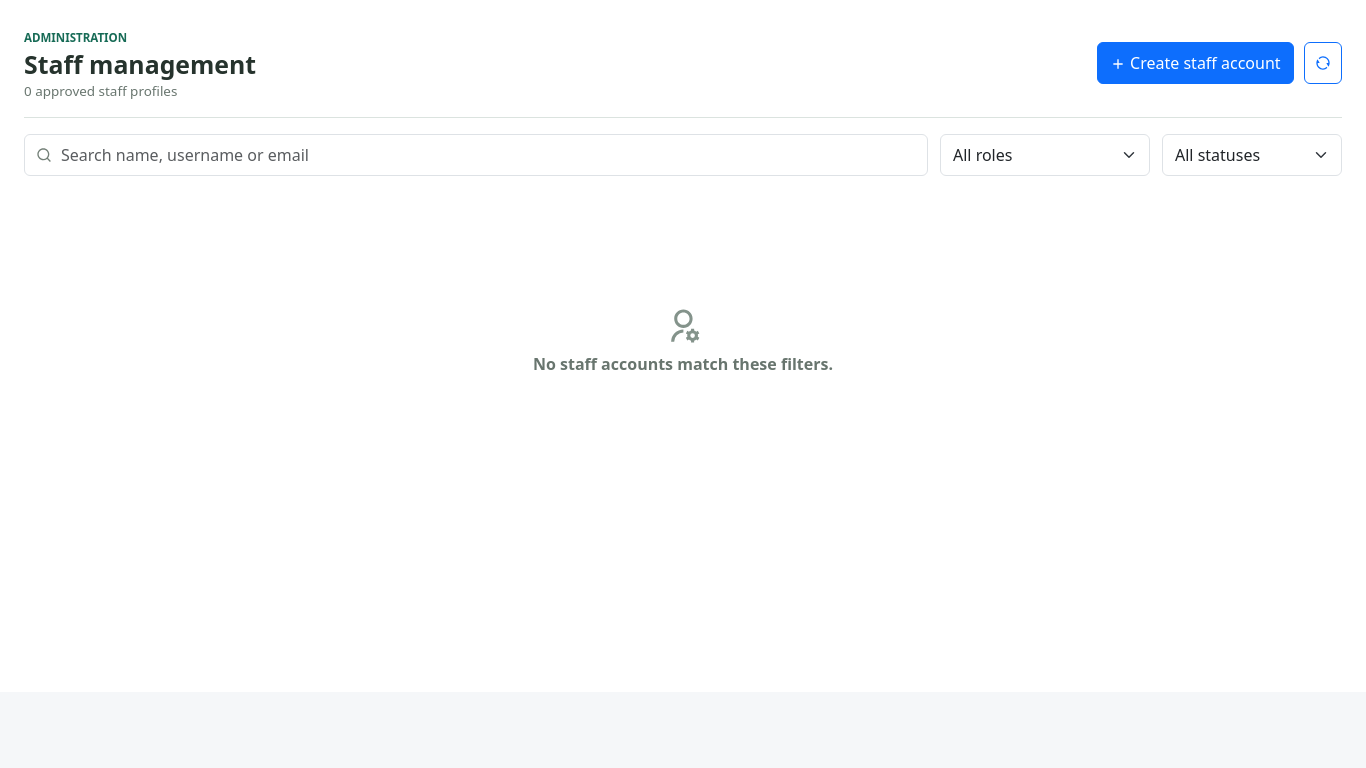
it: administrator can create staff and receives one-time credentials
This screenshot has width=1366, height=768.
Step 1. Click the button "Create staff account" → (1195, 62), box [1097,42,1294,84]
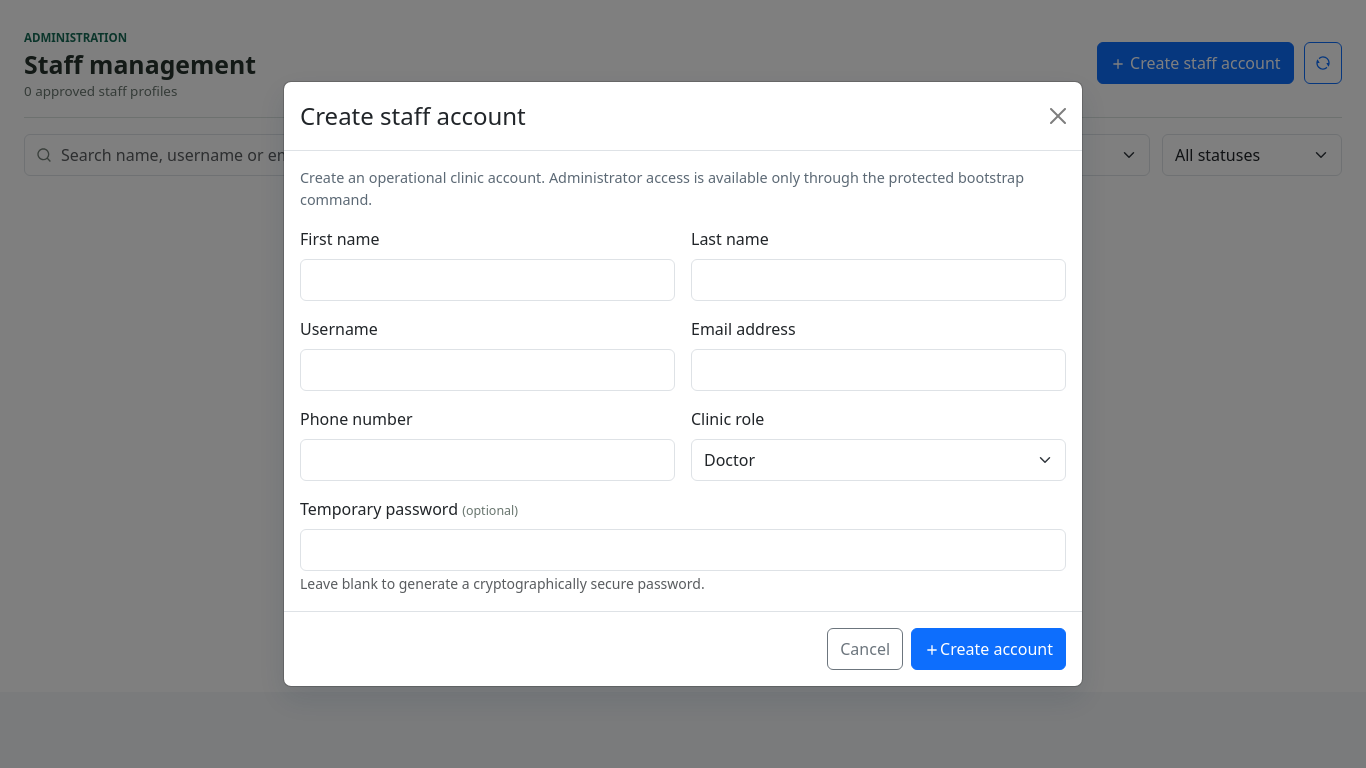
Step 2. Type "New" into the field labelled "First name" → (488, 280), box [300,259,675,301]
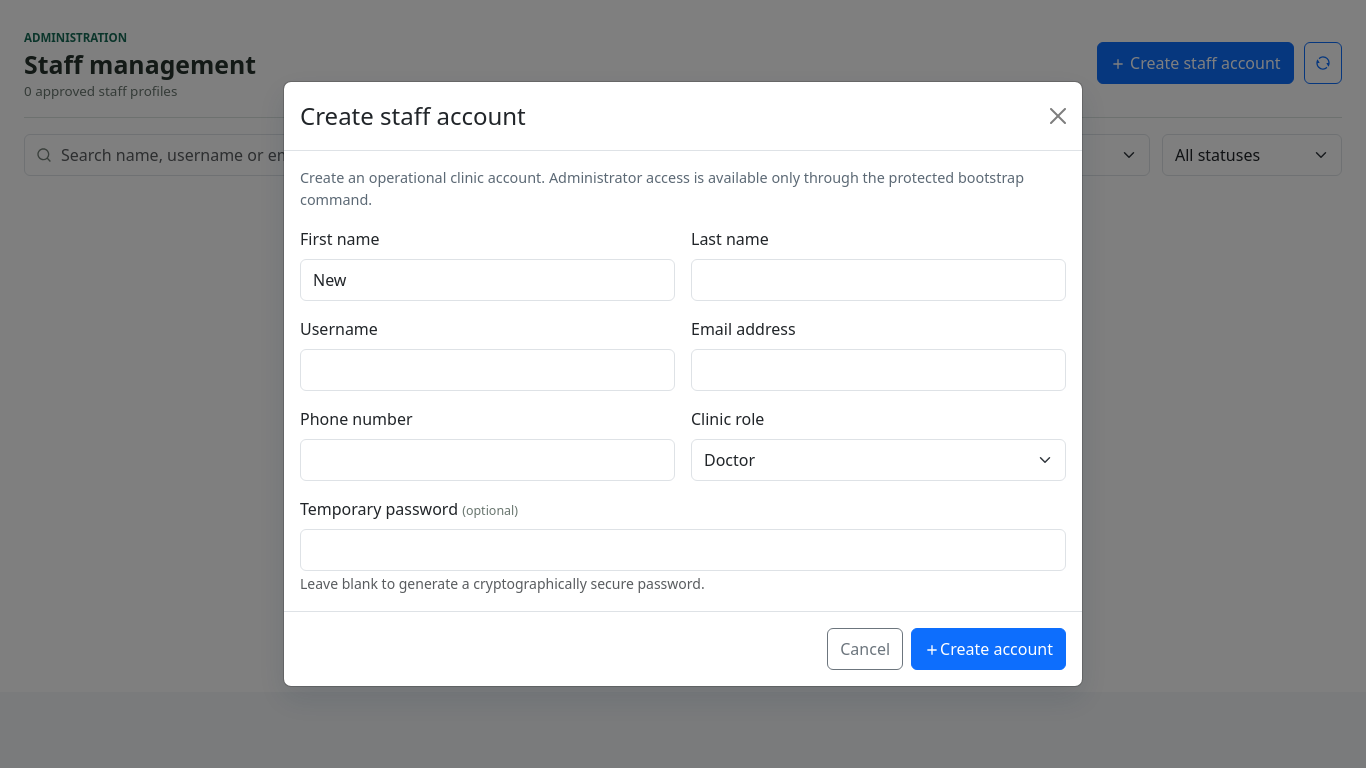
Step 3. Type "Doctor" into the field labelled "Last name" → (878, 280), box [691,259,1066,301]
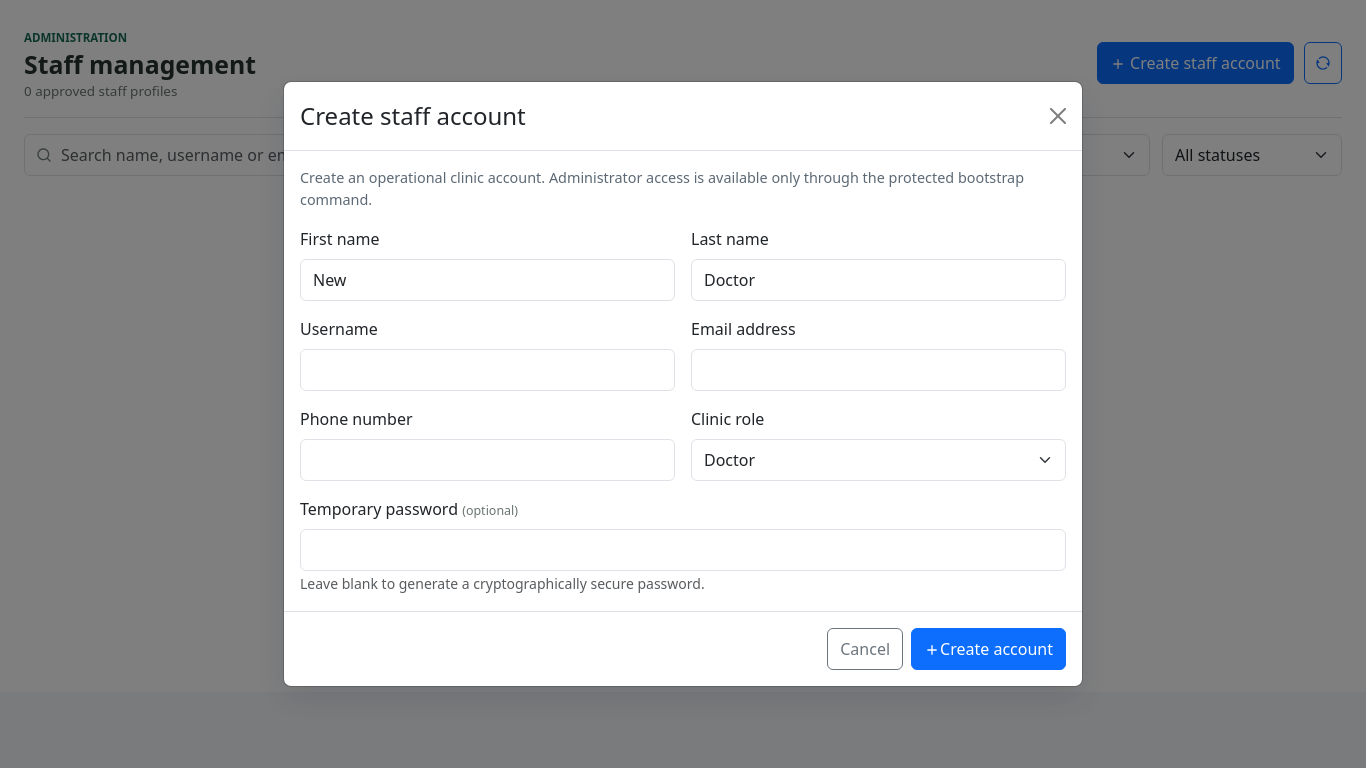
Step 4. Type "new-doctor" into the field labelled "Username" → (488, 370), box [300,349,675,391]
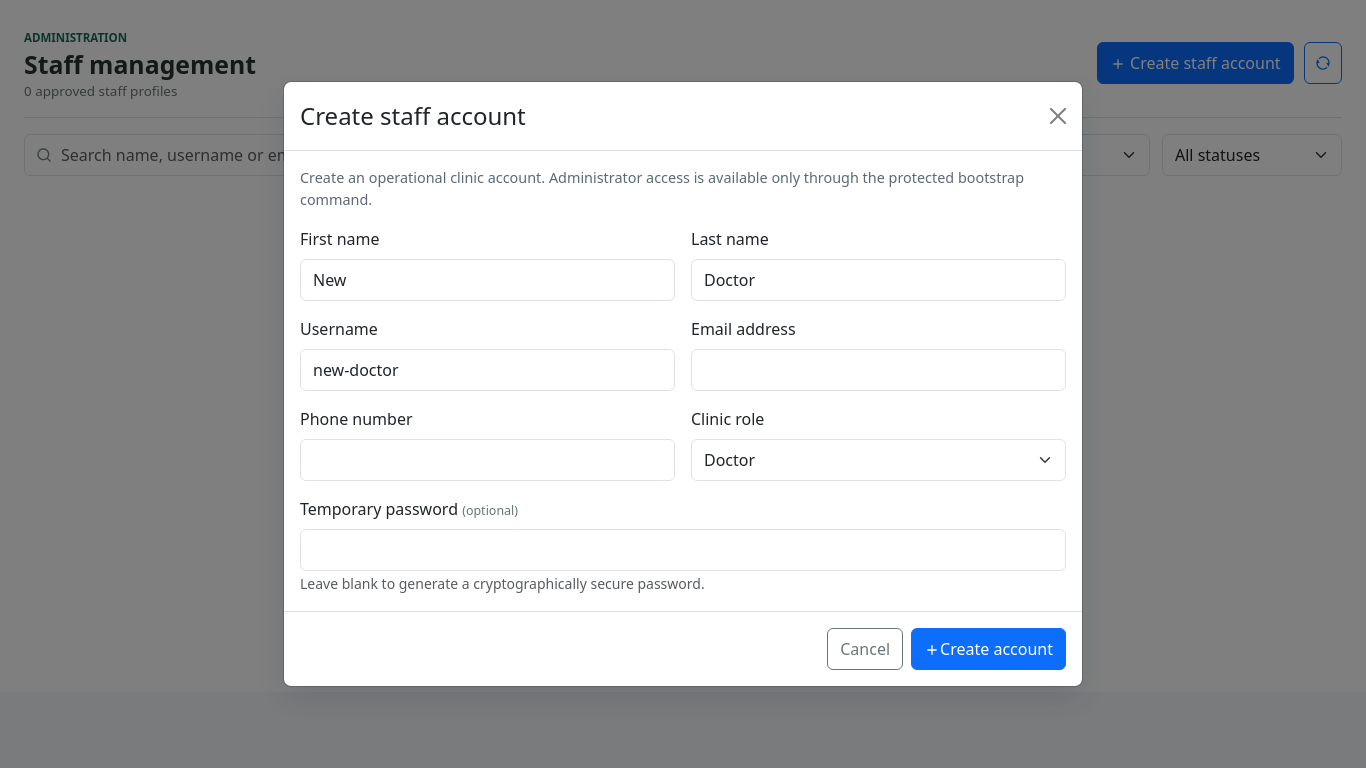
Step 5. Type "new@clinic.test" into the field labelled "Email address" → (878, 370), box [691,349,1066,391]
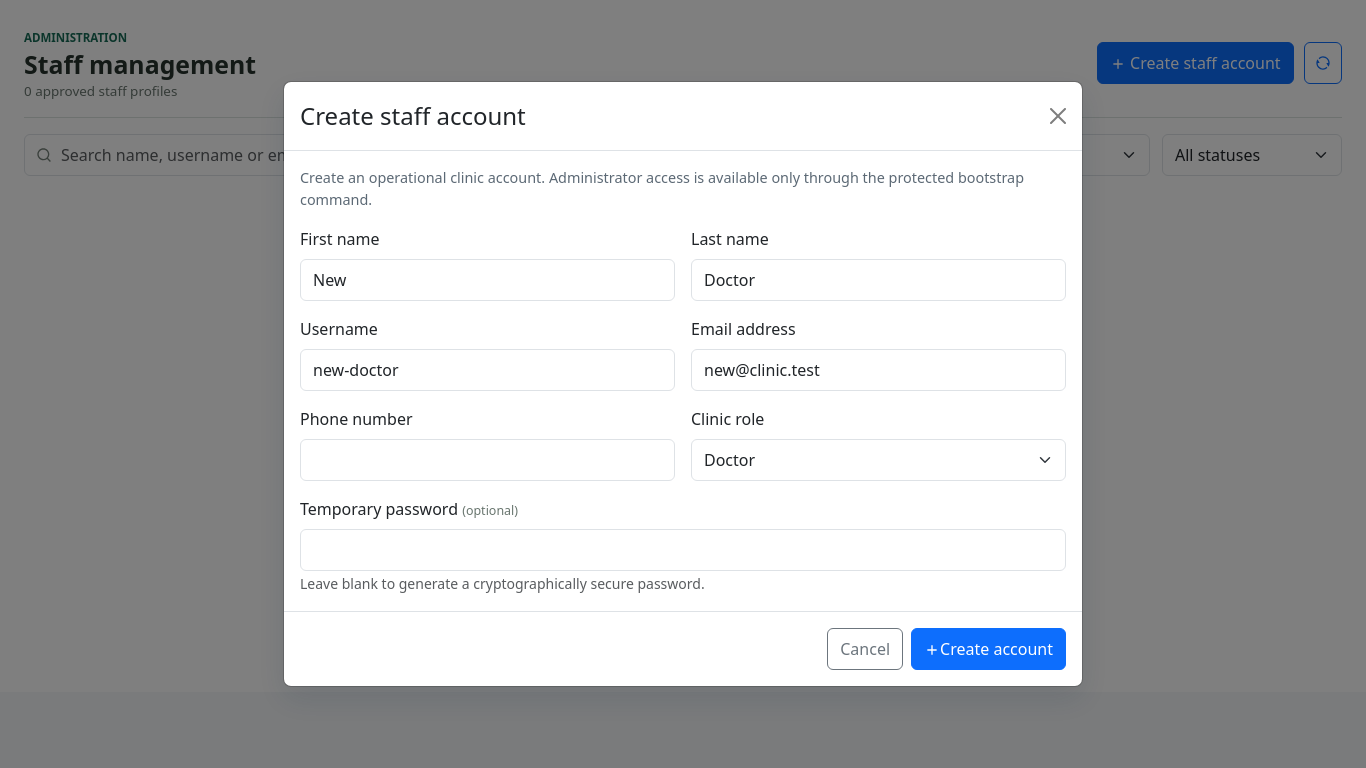
Step 6. Click the button "Create account" → (989, 649), box [911,628,1066,670]
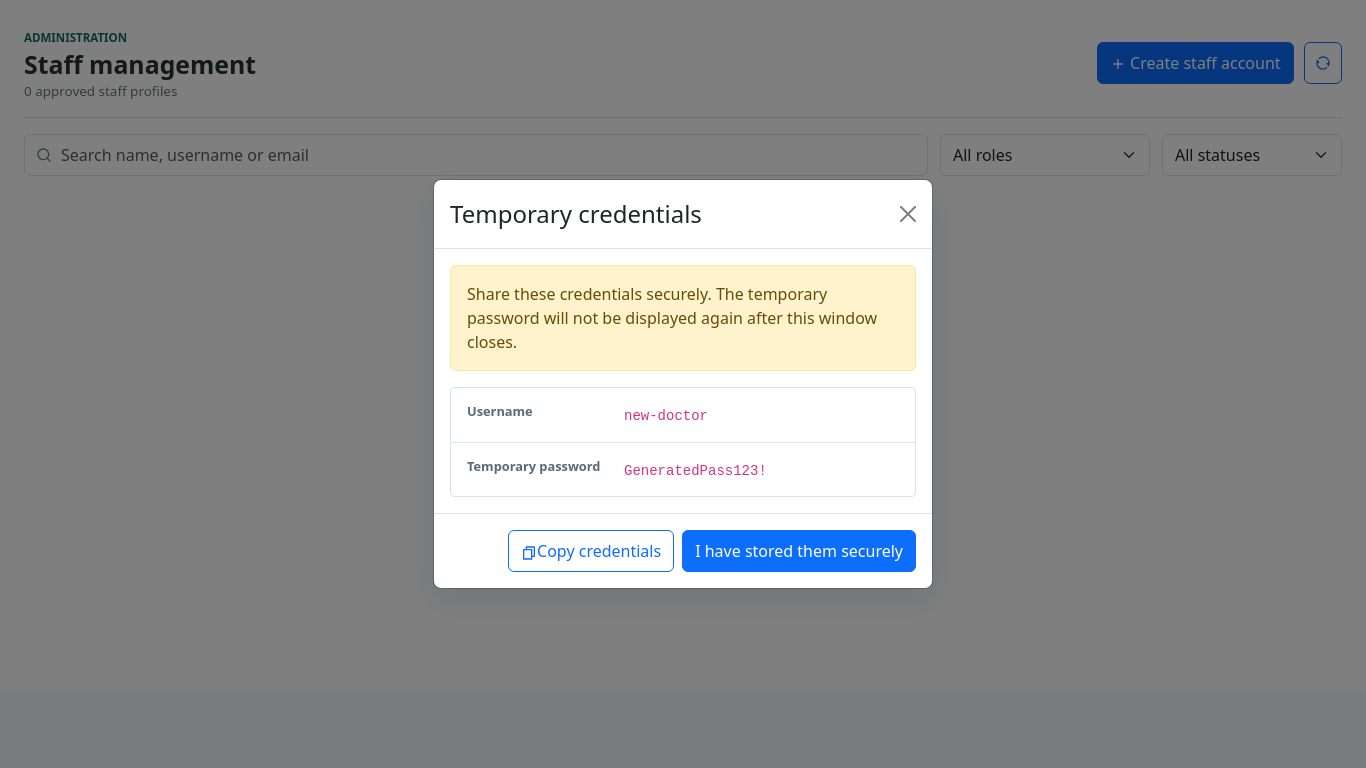
Expected: the text "GeneratedPass123!" is shown, [624,463,767,479]
Expected: the text "will not be displayed again" is shown, [467,283,877,353]
